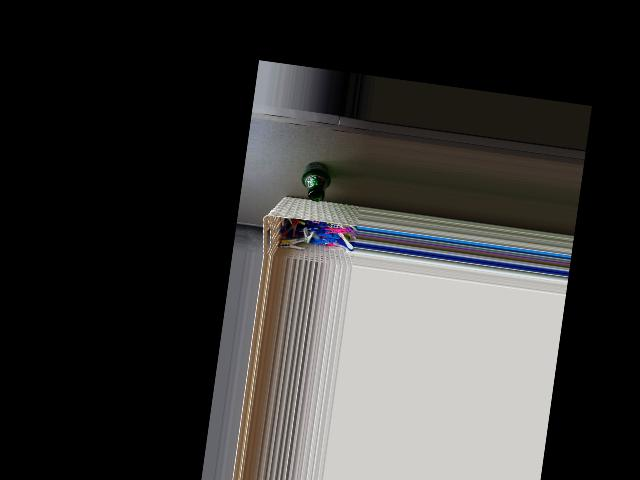beer: (298, 159, 333, 202)
